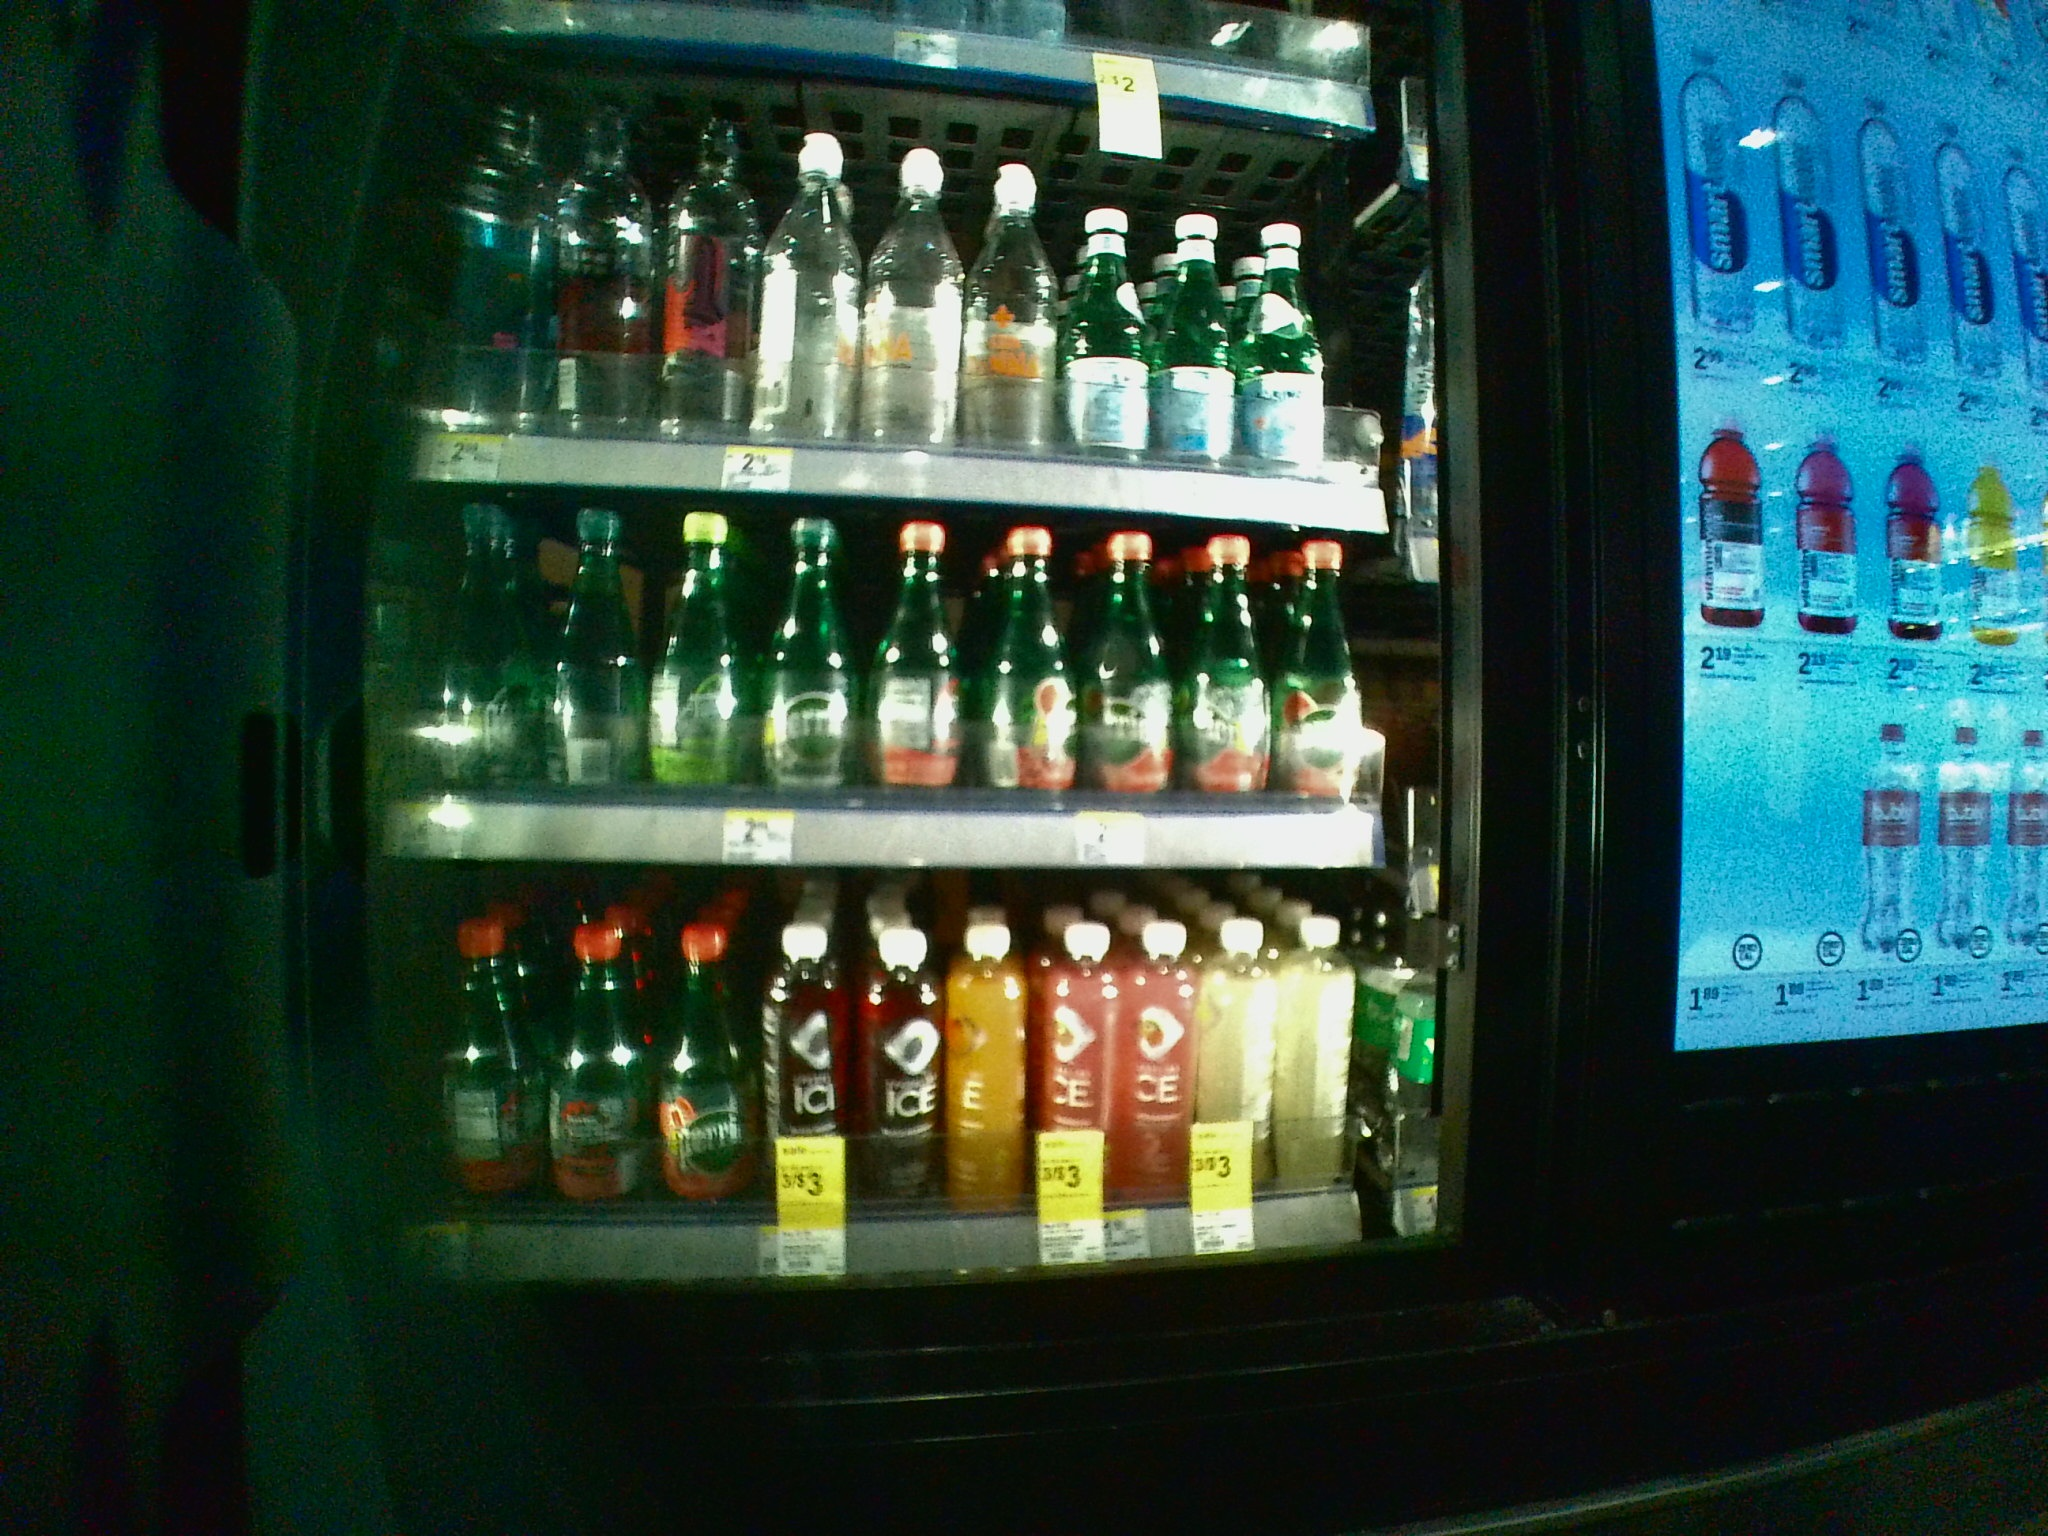Shelf: (381, 865, 1416, 1286), (381, 482, 1413, 870)
